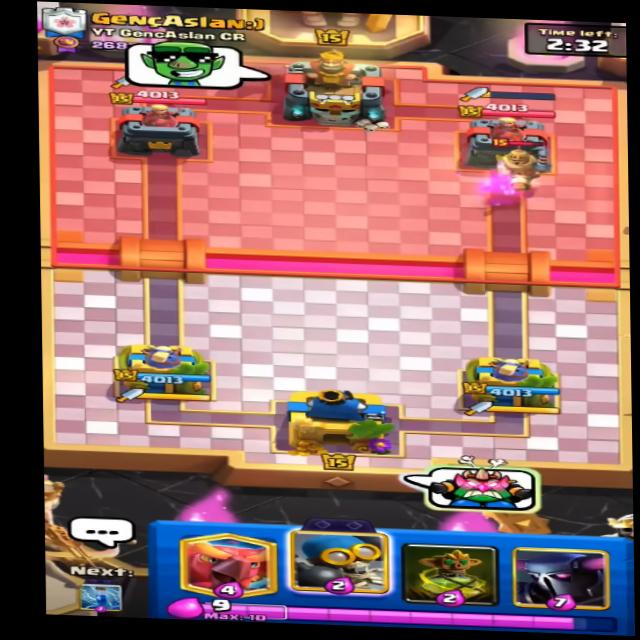prince: (485, 139, 551, 194)
